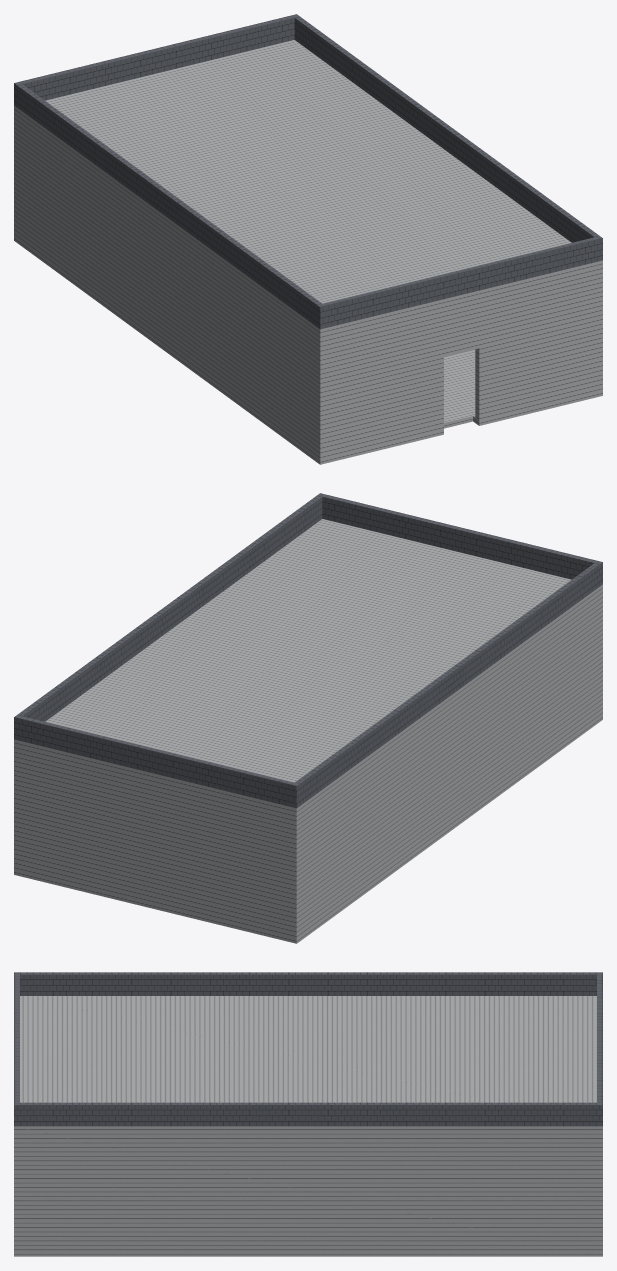
File: bar_tavern.glb
3 renders of one model, top to bottom at view 1: azimuth 30°, elevation 25°; view 2: azimuth 150°, elevation 25°; view 3: azimuth 270°, elevation 25°, orthographic. The views are drawn at different scales.
Parts seen in each view (by area): view 1: bar_tavern-col; view 2: bar_tavern-col; view 3: bar_tavern-col.
Part boxes in pixels (x1,y1,x2,y2): bar_tavern-col: (14, 14, 602, 464); bar_tavern-col: (14, 493, 602, 943); bar_tavern-col: (14, 972, 602, 1256).
Bounding box in the file's own units: 8 × 4.26 × 15.
Materials: 2 (2 with a texture image).
